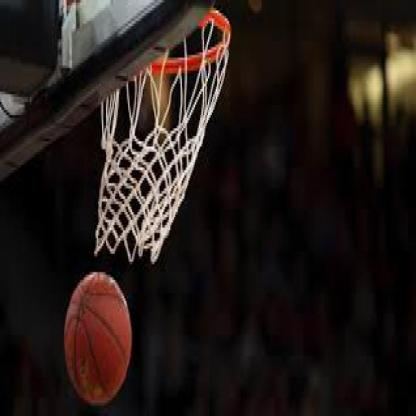basketball: (63, 272, 132, 406)
rim: (139, 8, 233, 84)
